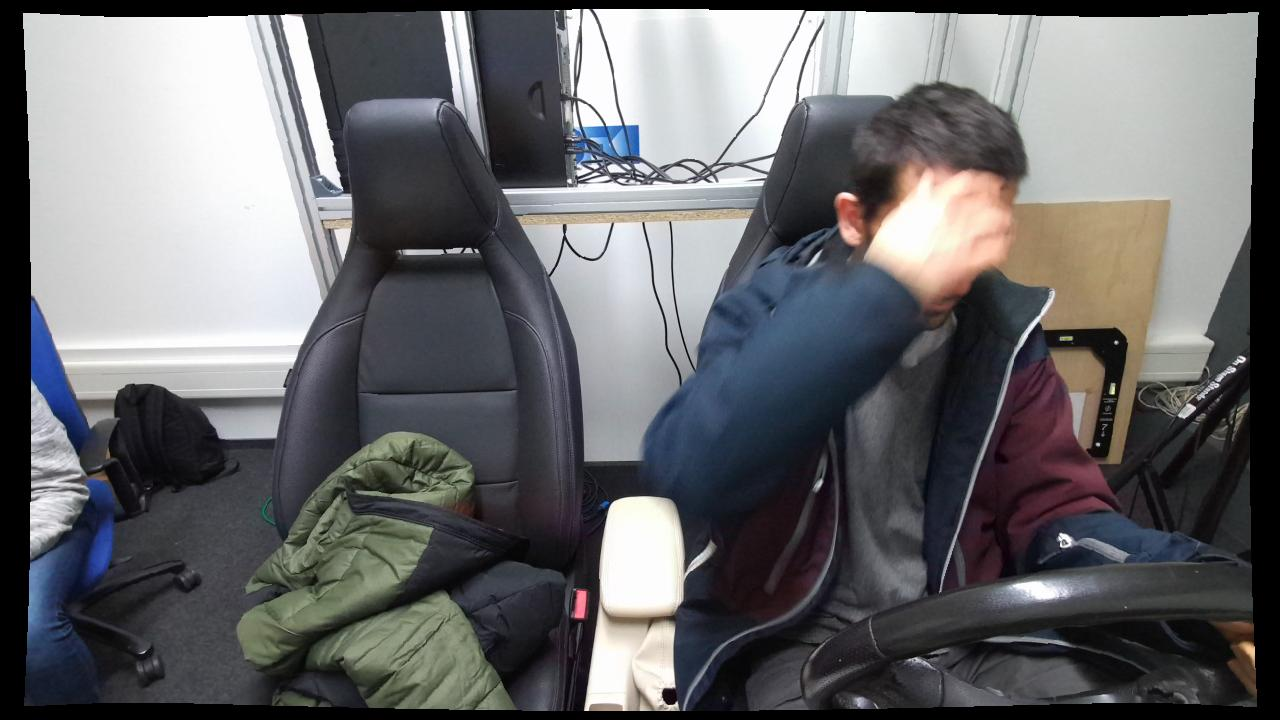Distracted: (642, 72, 1084, 709)
